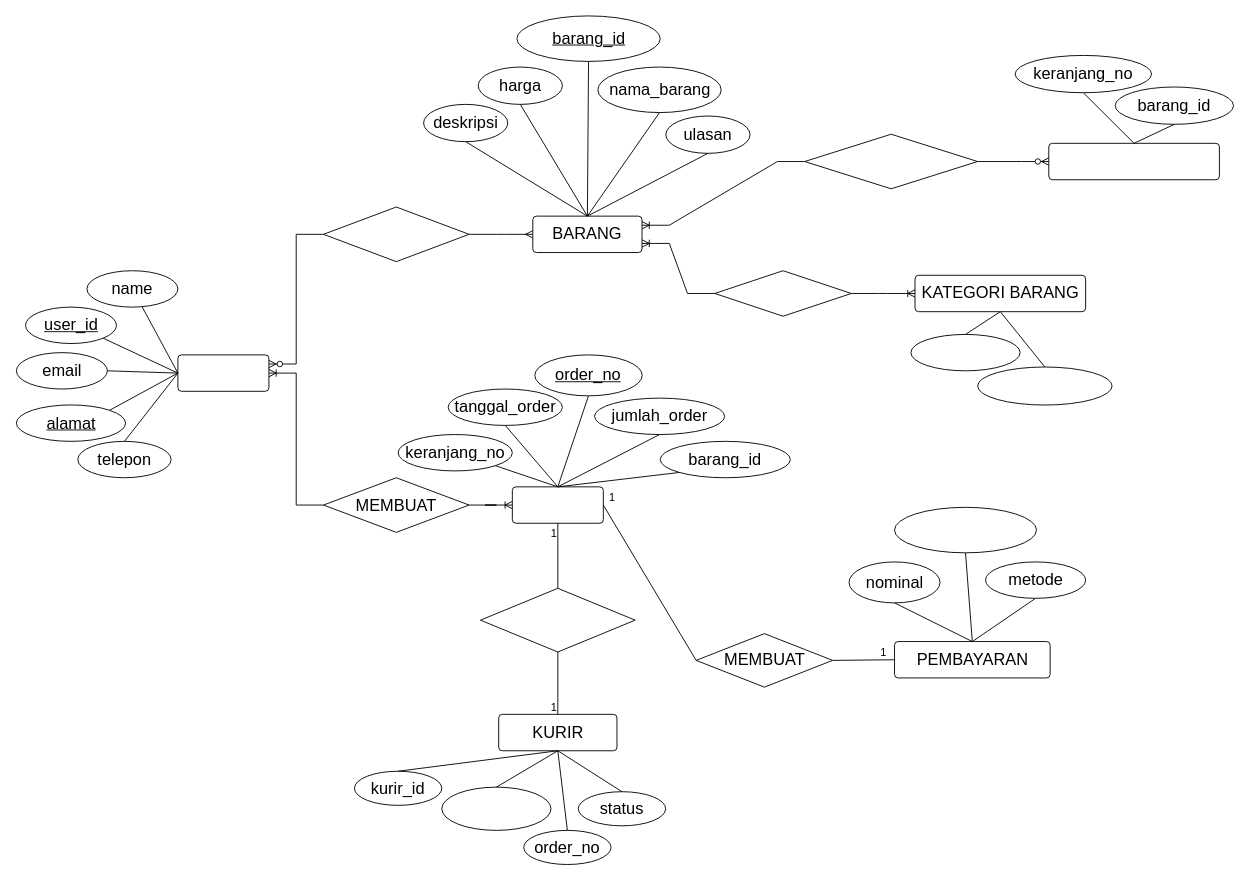
Some shapes in this 1249 by 881 pixel diagram are drawn without their labels. The box of each missing label's shape, as (x1, y1, x2, y2) in pixels:
DIMASUKAN: (804, 133, 978, 189)
jenis_barang: (977, 366, 1112, 405)
jenis_id: (910, 334, 1020, 371)
KERANJANG: (1048, 142, 1219, 180)
MEMILIKI: (714, 270, 851, 316)
MENCARI: (323, 206, 469, 262)
ORDER: (511, 486, 603, 523)
pembayaran_id: (894, 506, 1036, 553)
PENGIRIMAN: (480, 587, 635, 652)
tracking_id: (441, 786, 551, 830)
USER: (177, 354, 269, 391)
